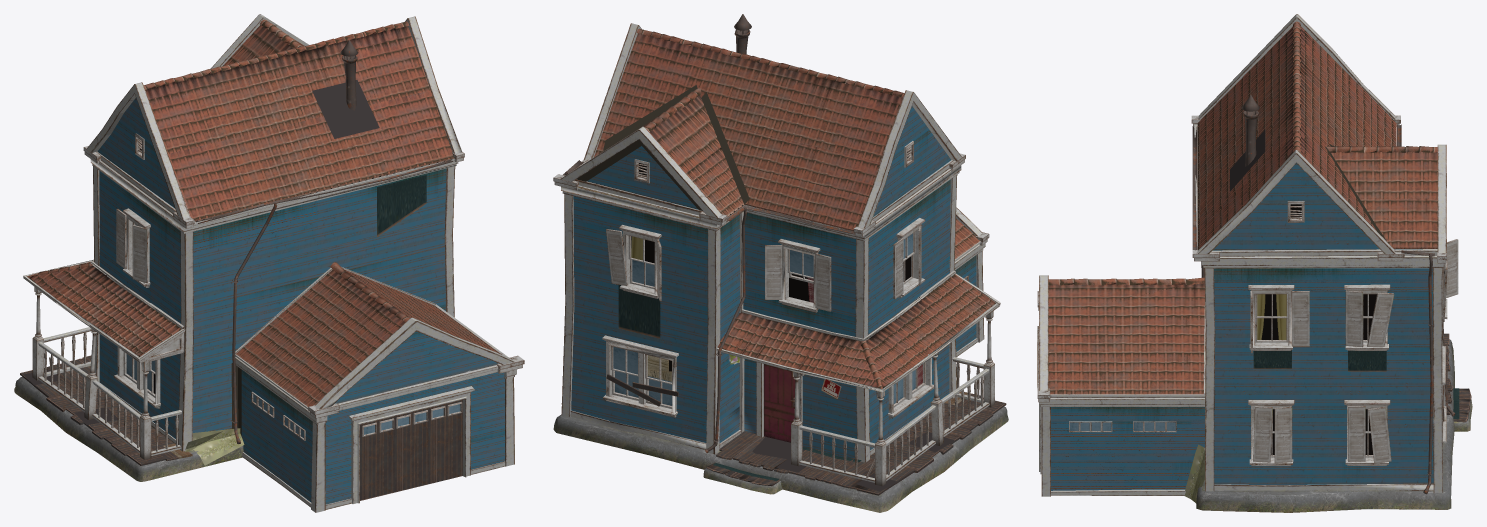
File: blue_house.glb
The picture shows the model from 3 angles, left to right: view 1: azimuth 30°, elevation 25°; view 2: azimuth 150°, elevation 25°; view 3: azimuth 270°, elevation 25°; orthographic projection.
Visible parts, largest first — view 1: bld; view 2: bld; view 3: bld.
Part boxes in pixels (left/top/right/bottom): bld: left=14, top=14, right=524, bottom=512; bld: left=553, top=14, right=1008, bottom=512; bld: left=1037, top=14, right=1472, bottom=512.
Size of the model in its own units: 1596 by 1652 by 1739.
2 materials, 2 textured.
